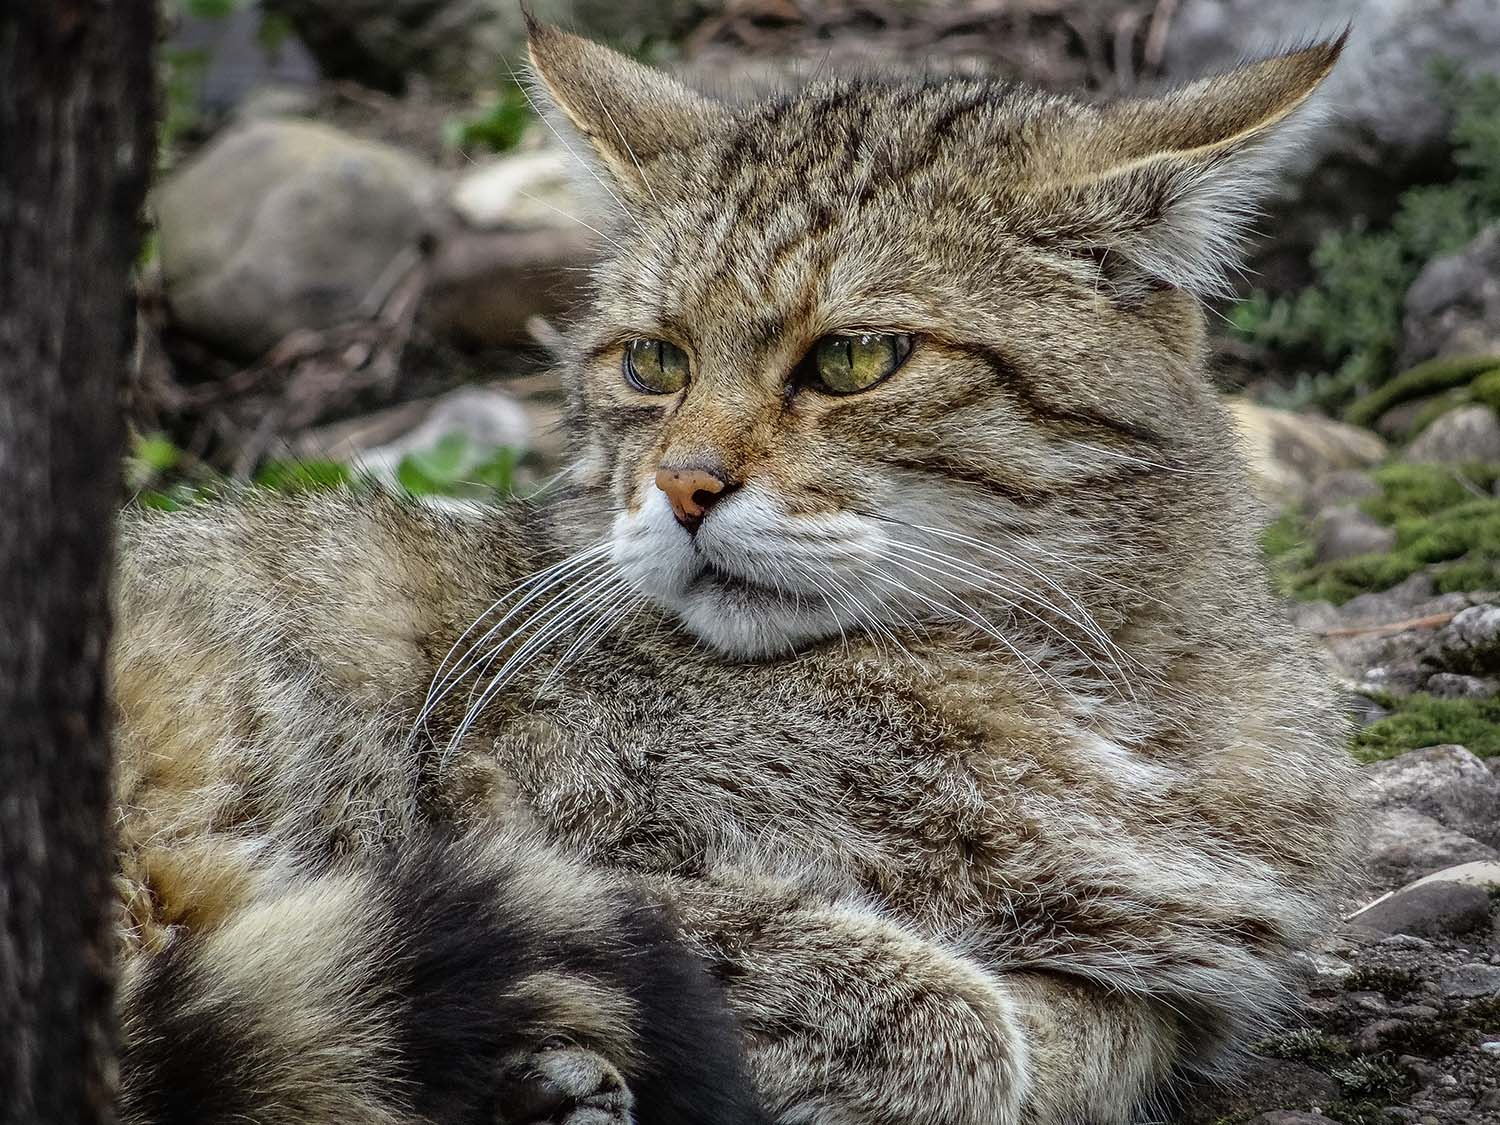Cat: (120, 7, 1380, 1094)
